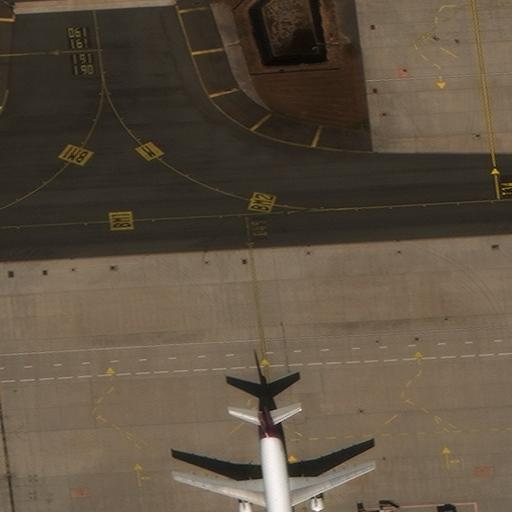Large Civil Transport: (172, 406, 376, 511)
